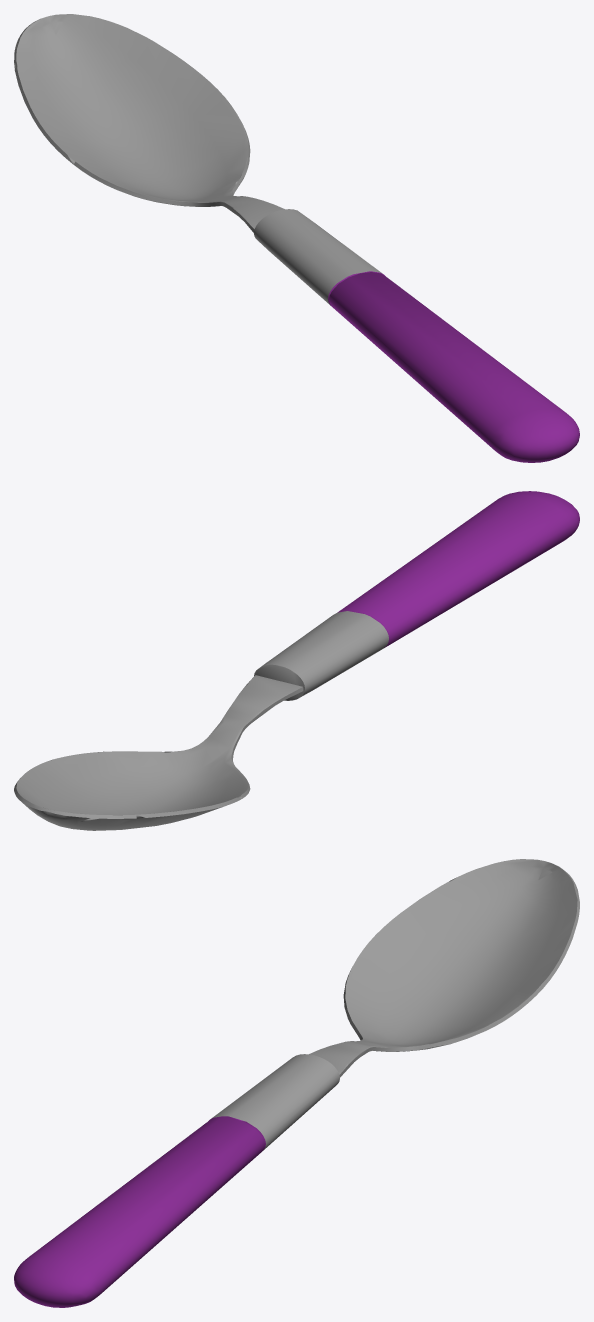
The model's file is Spoon.FBX.
3 renders of one model, top to bottom at view 1: azimuth 30°, elevation 25°; view 2: azimuth 150°, elevation 25°; view 3: azimuth 330°, elevation 25°, orthographic.
Parts seen in each view (by area): view 1: spoon; view 2: spoon; view 3: spoon.
Boxes of the visible parts, <box> form: spoon: <box>14,14,579,462</box>; spoon: <box>14,491,579,830</box>; spoon: <box>14,859,579,1307</box>.
Bounding box in the file's own units: 1.14 × 0.5308 × 5.69.
